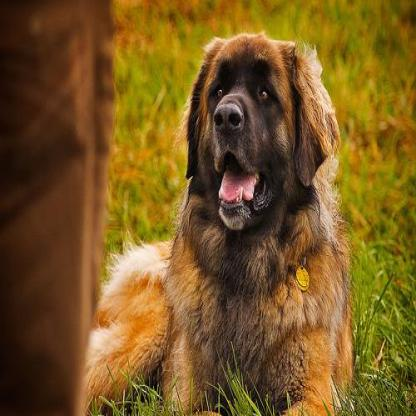Leonberg: (74, 25, 355, 413)
